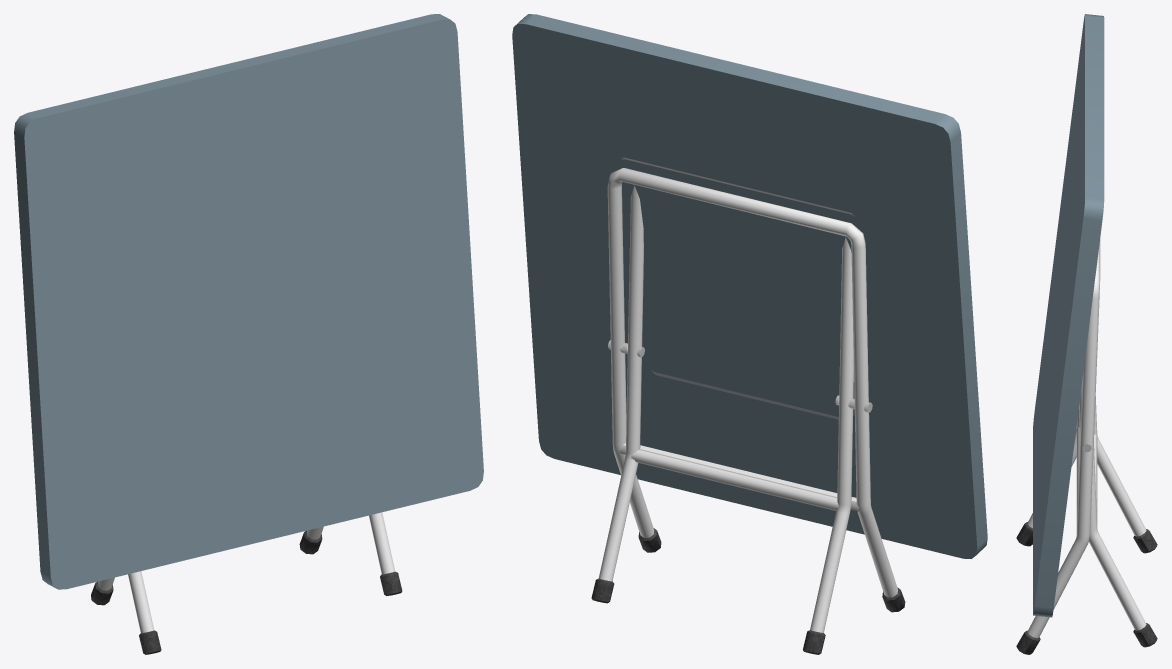
The model's file is folding_table.FBX.
3 views of the same model, side by side, from view 1: azimuth 30°, elevation 25°; view 2: azimuth 150°, elevation 25°; view 3: azimuth 270°, elevation 25° (orthographic). The views are drawn at different scales.
Visible parts, largest first — view 1: Object709; view 2: Object709; view 3: Object709.
Boxes of the visible parts, x1=… form: Object709: x1=14, y1=14, x2=483, y2=654; Object709: x1=512, y1=14, x2=987, y2=654; Object709: x1=1016, y1=14, x2=1157, y2=654.
Bounding box in the file's own units: 96 × 113 × 29.4.
Materials: 1 (1 with a texture image).
